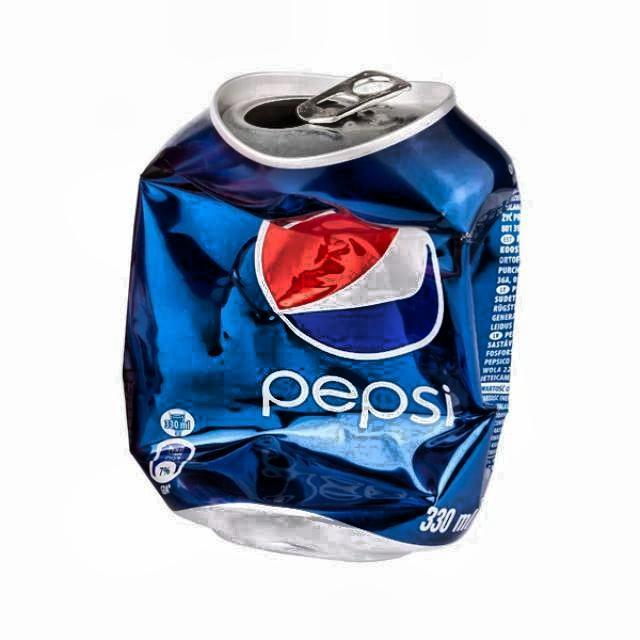metal: (120, 71, 523, 568)
